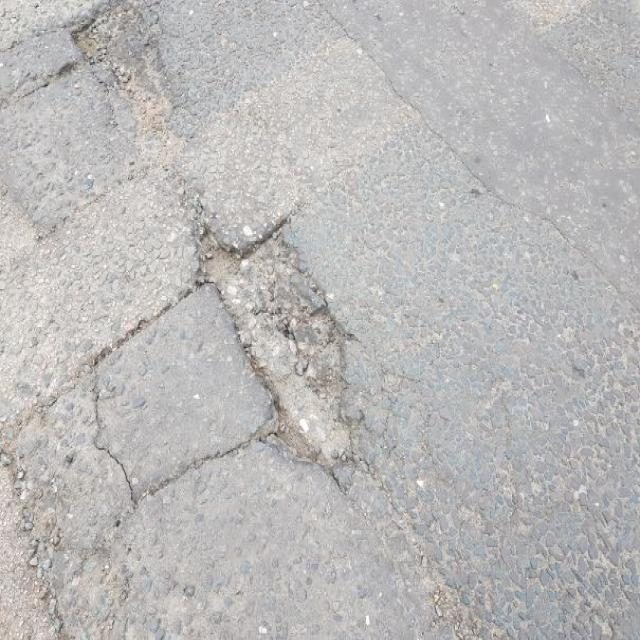pothole: (186, 210, 368, 492), (57, 2, 182, 138)
